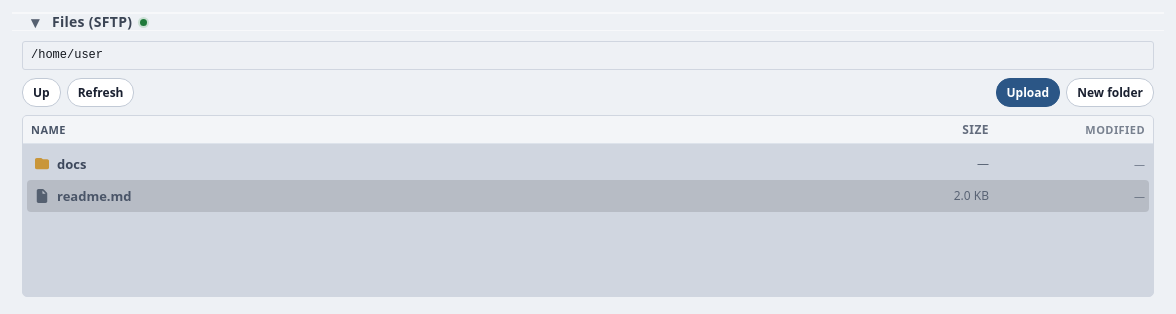
Test: SftpPanel listing › restores the current directory when chdir from the path field fails
The width and height of the screenshot is (1176, 314).
Expected: the text "docs" is shown, [35,155,86,173]
Replace the text in the field named "Directory" with "/does/not/exist" at (588, 55), box [22,41,1154,70]
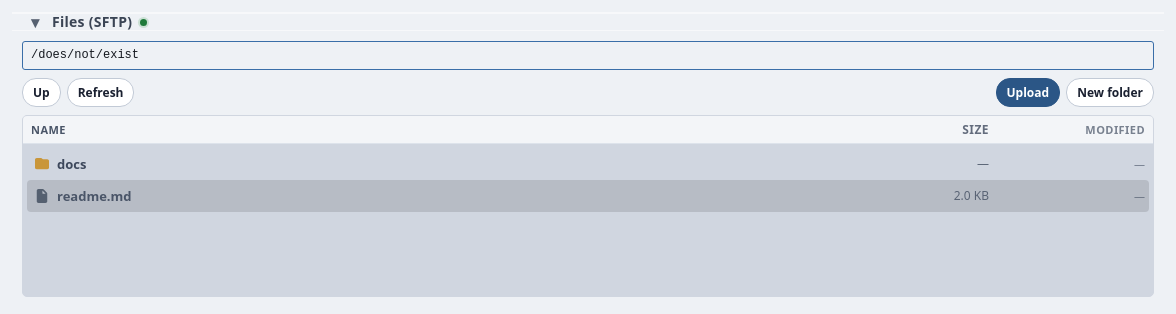
Press Enter
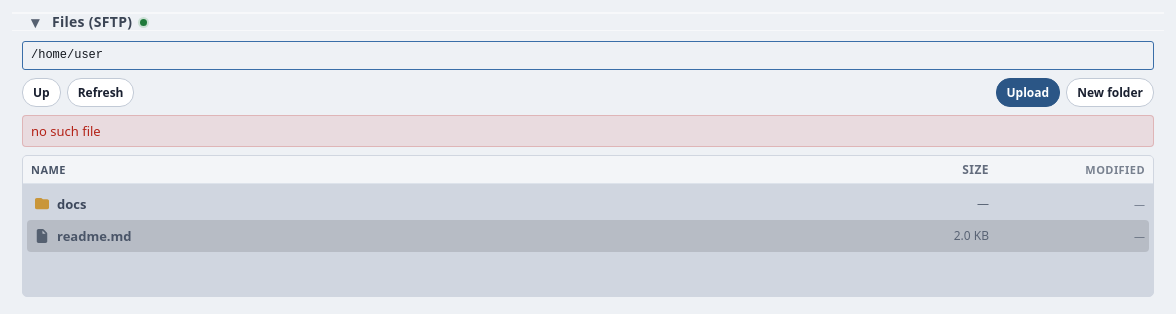
Expected: the text "docs" is shown, [35,195,86,213]
Expected: the field named "Directory" holds "/home/user", [22,41,1154,70]
Expected: the text "no such file" is shown, [22,115,1154,147]
